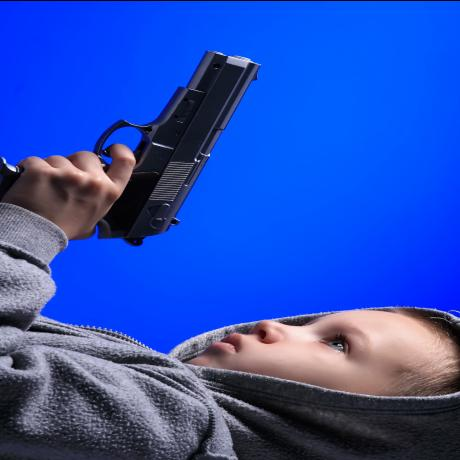1: (0, 142, 460, 460)
weapon: (0, 48, 255, 244)
